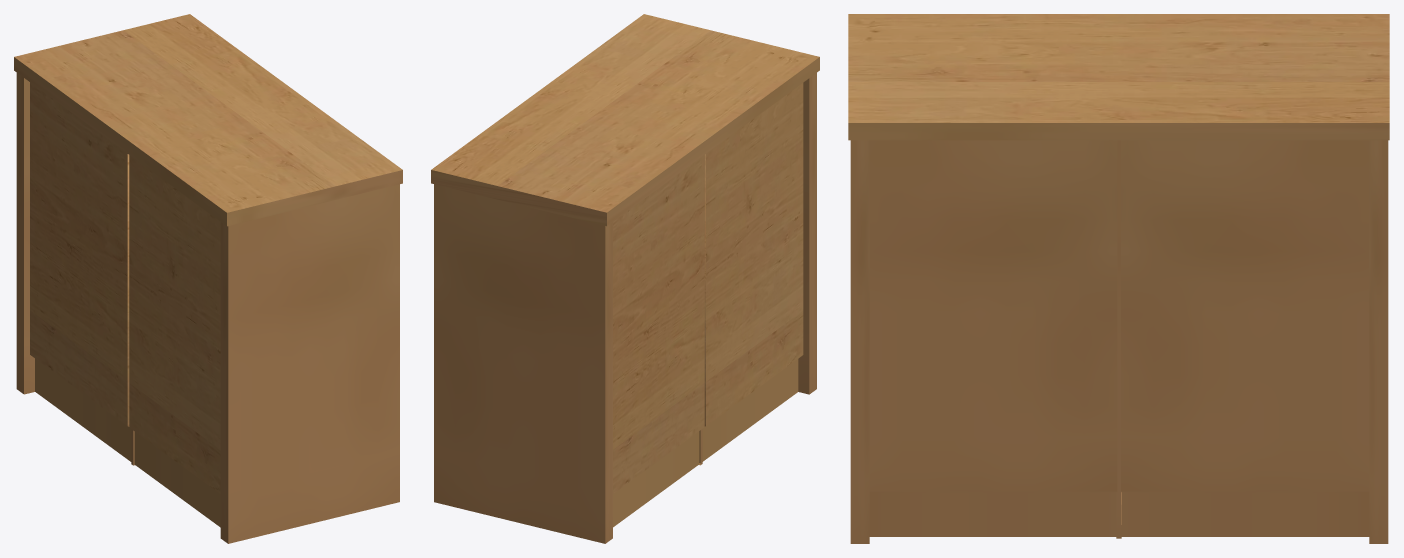
File: tumb_m1.fbx
The picture shows the model from 3 angles, left to right: view 1: azimuth 30°, elevation 25°; view 2: azimuth 150°, elevation 25°; view 3: azimuth 270°, elevation 25°; orthographic projection. The views are drawn at different scales.
Parts seen in each view (by area): view 1: tumb_m1; view 2: tumb_m1; view 3: tumb_m1.
Part boxes in pixels (x1=…): tumb_m1: x1=14, y1=14, x2=402, y2=543; tumb_m1: x1=431, y1=14, x2=819, y2=543; tumb_m1: x1=848, y1=14, x2=1389, y2=543.
Size of the model in its own units: 0.2933 by 0.5302 by 0.6151.
